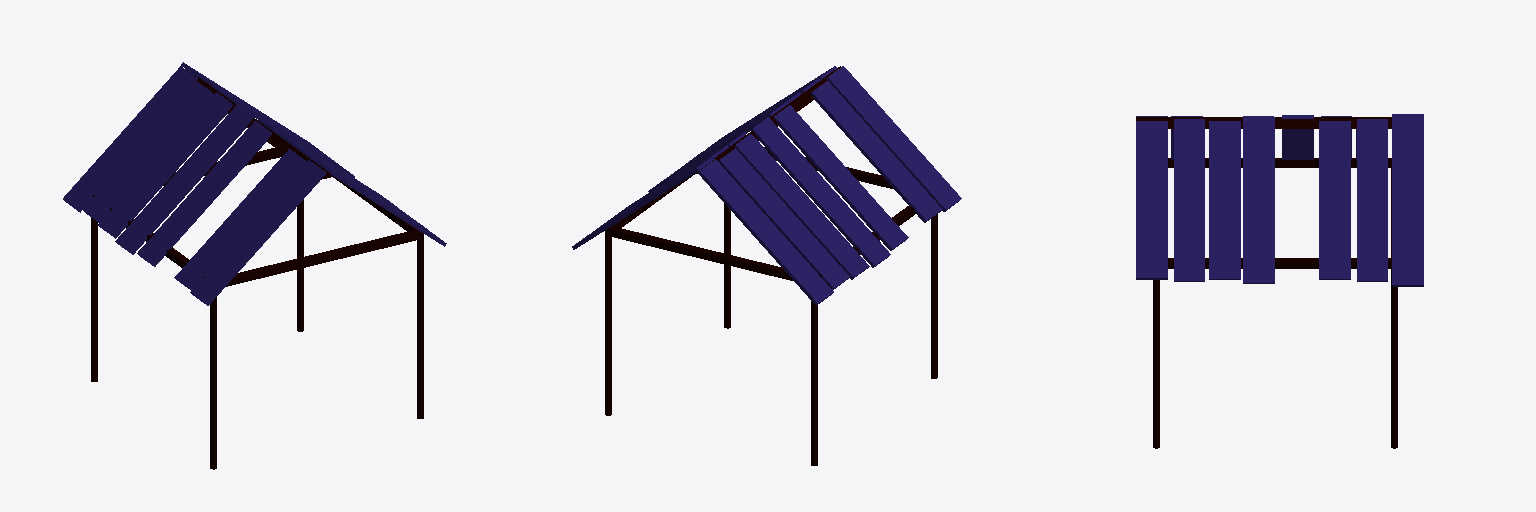
The model's file is Hut_B.obj.
3 views of the same model, side by side, from view 1: azimuth 30°, elevation 25°; view 2: azimuth 150°, elevation 25°; view 3: azimuth 270°, elevation 25° (orthographic).
Visible parts, largest first — view 1: Hut_B; view 2: Hut_B; view 3: Hut_B.
Part boxes in pixels (left/top/right/bottom): Hut_B: left=63, top=62, right=446, bottom=469; Hut_B: left=572, top=66, right=961, bottom=465; Hut_B: left=1136, top=114, right=1423, bottom=448.
Size of the model in its own units: 7.96 by 8.65 by 8.